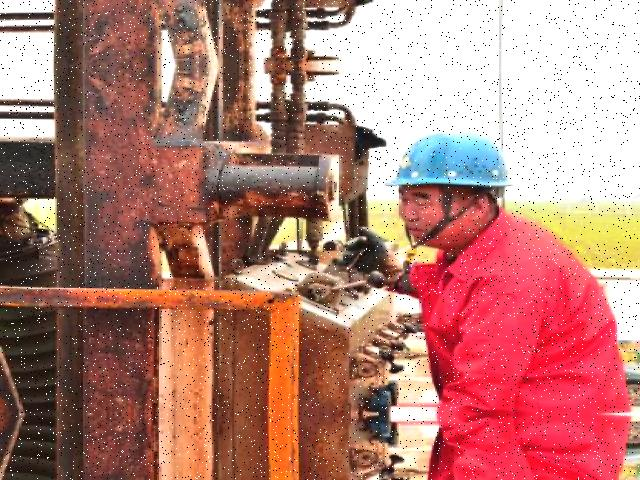Helmet: (378, 123, 520, 198)
